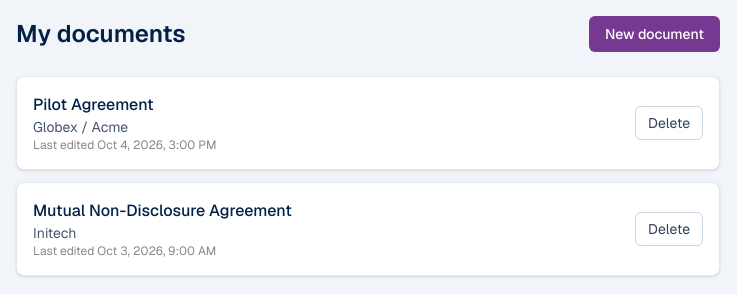
Test: DocumentsPage › deletes only after confirmation
The image size is (737, 294).
Click the button with aria-label "Delete Pilot Agreement" at [669, 123], box [635,106,703,140]
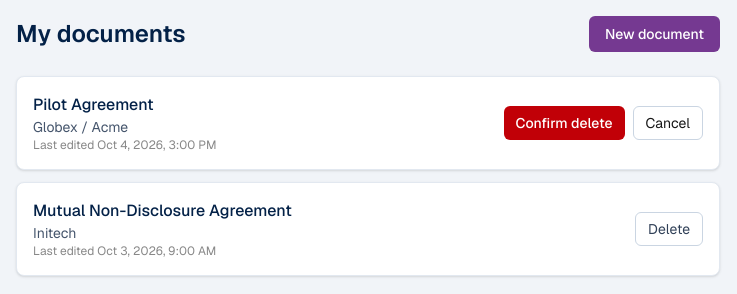
Click the button "Confirm delete" at [564, 123], box [504,106,624,140]
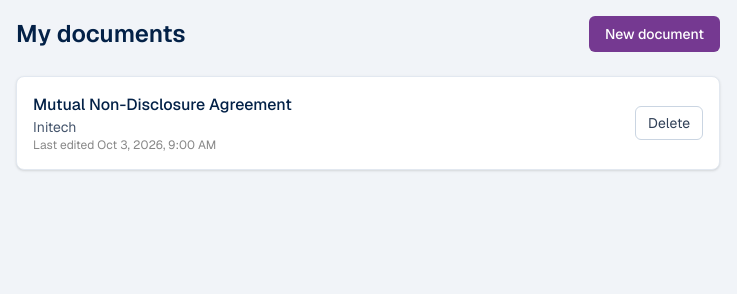
Expected: the button "Globex / Acme" is gone
